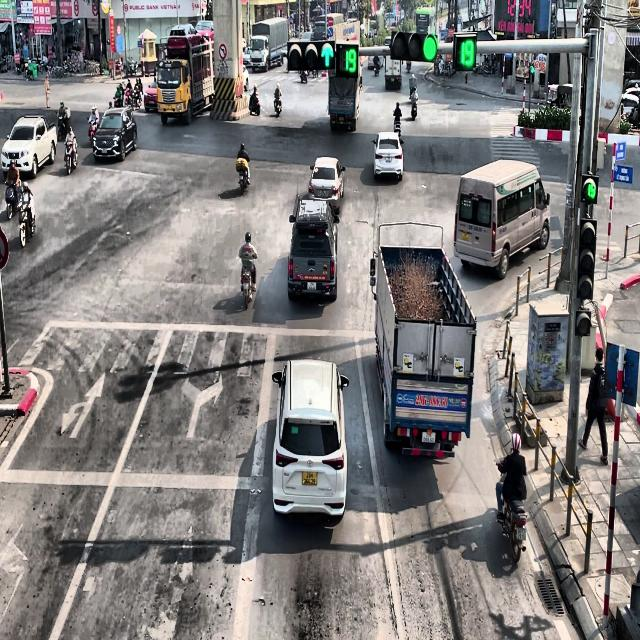lisence_plate: (396, 389, 468, 410), (301, 469, 317, 486), (514, 526, 527, 545), (420, 430, 436, 445), (468, 224, 484, 235), (306, 280, 316, 291), (461, 230, 469, 243), (319, 190, 327, 196), (386, 158, 392, 164), (338, 116, 344, 121)
